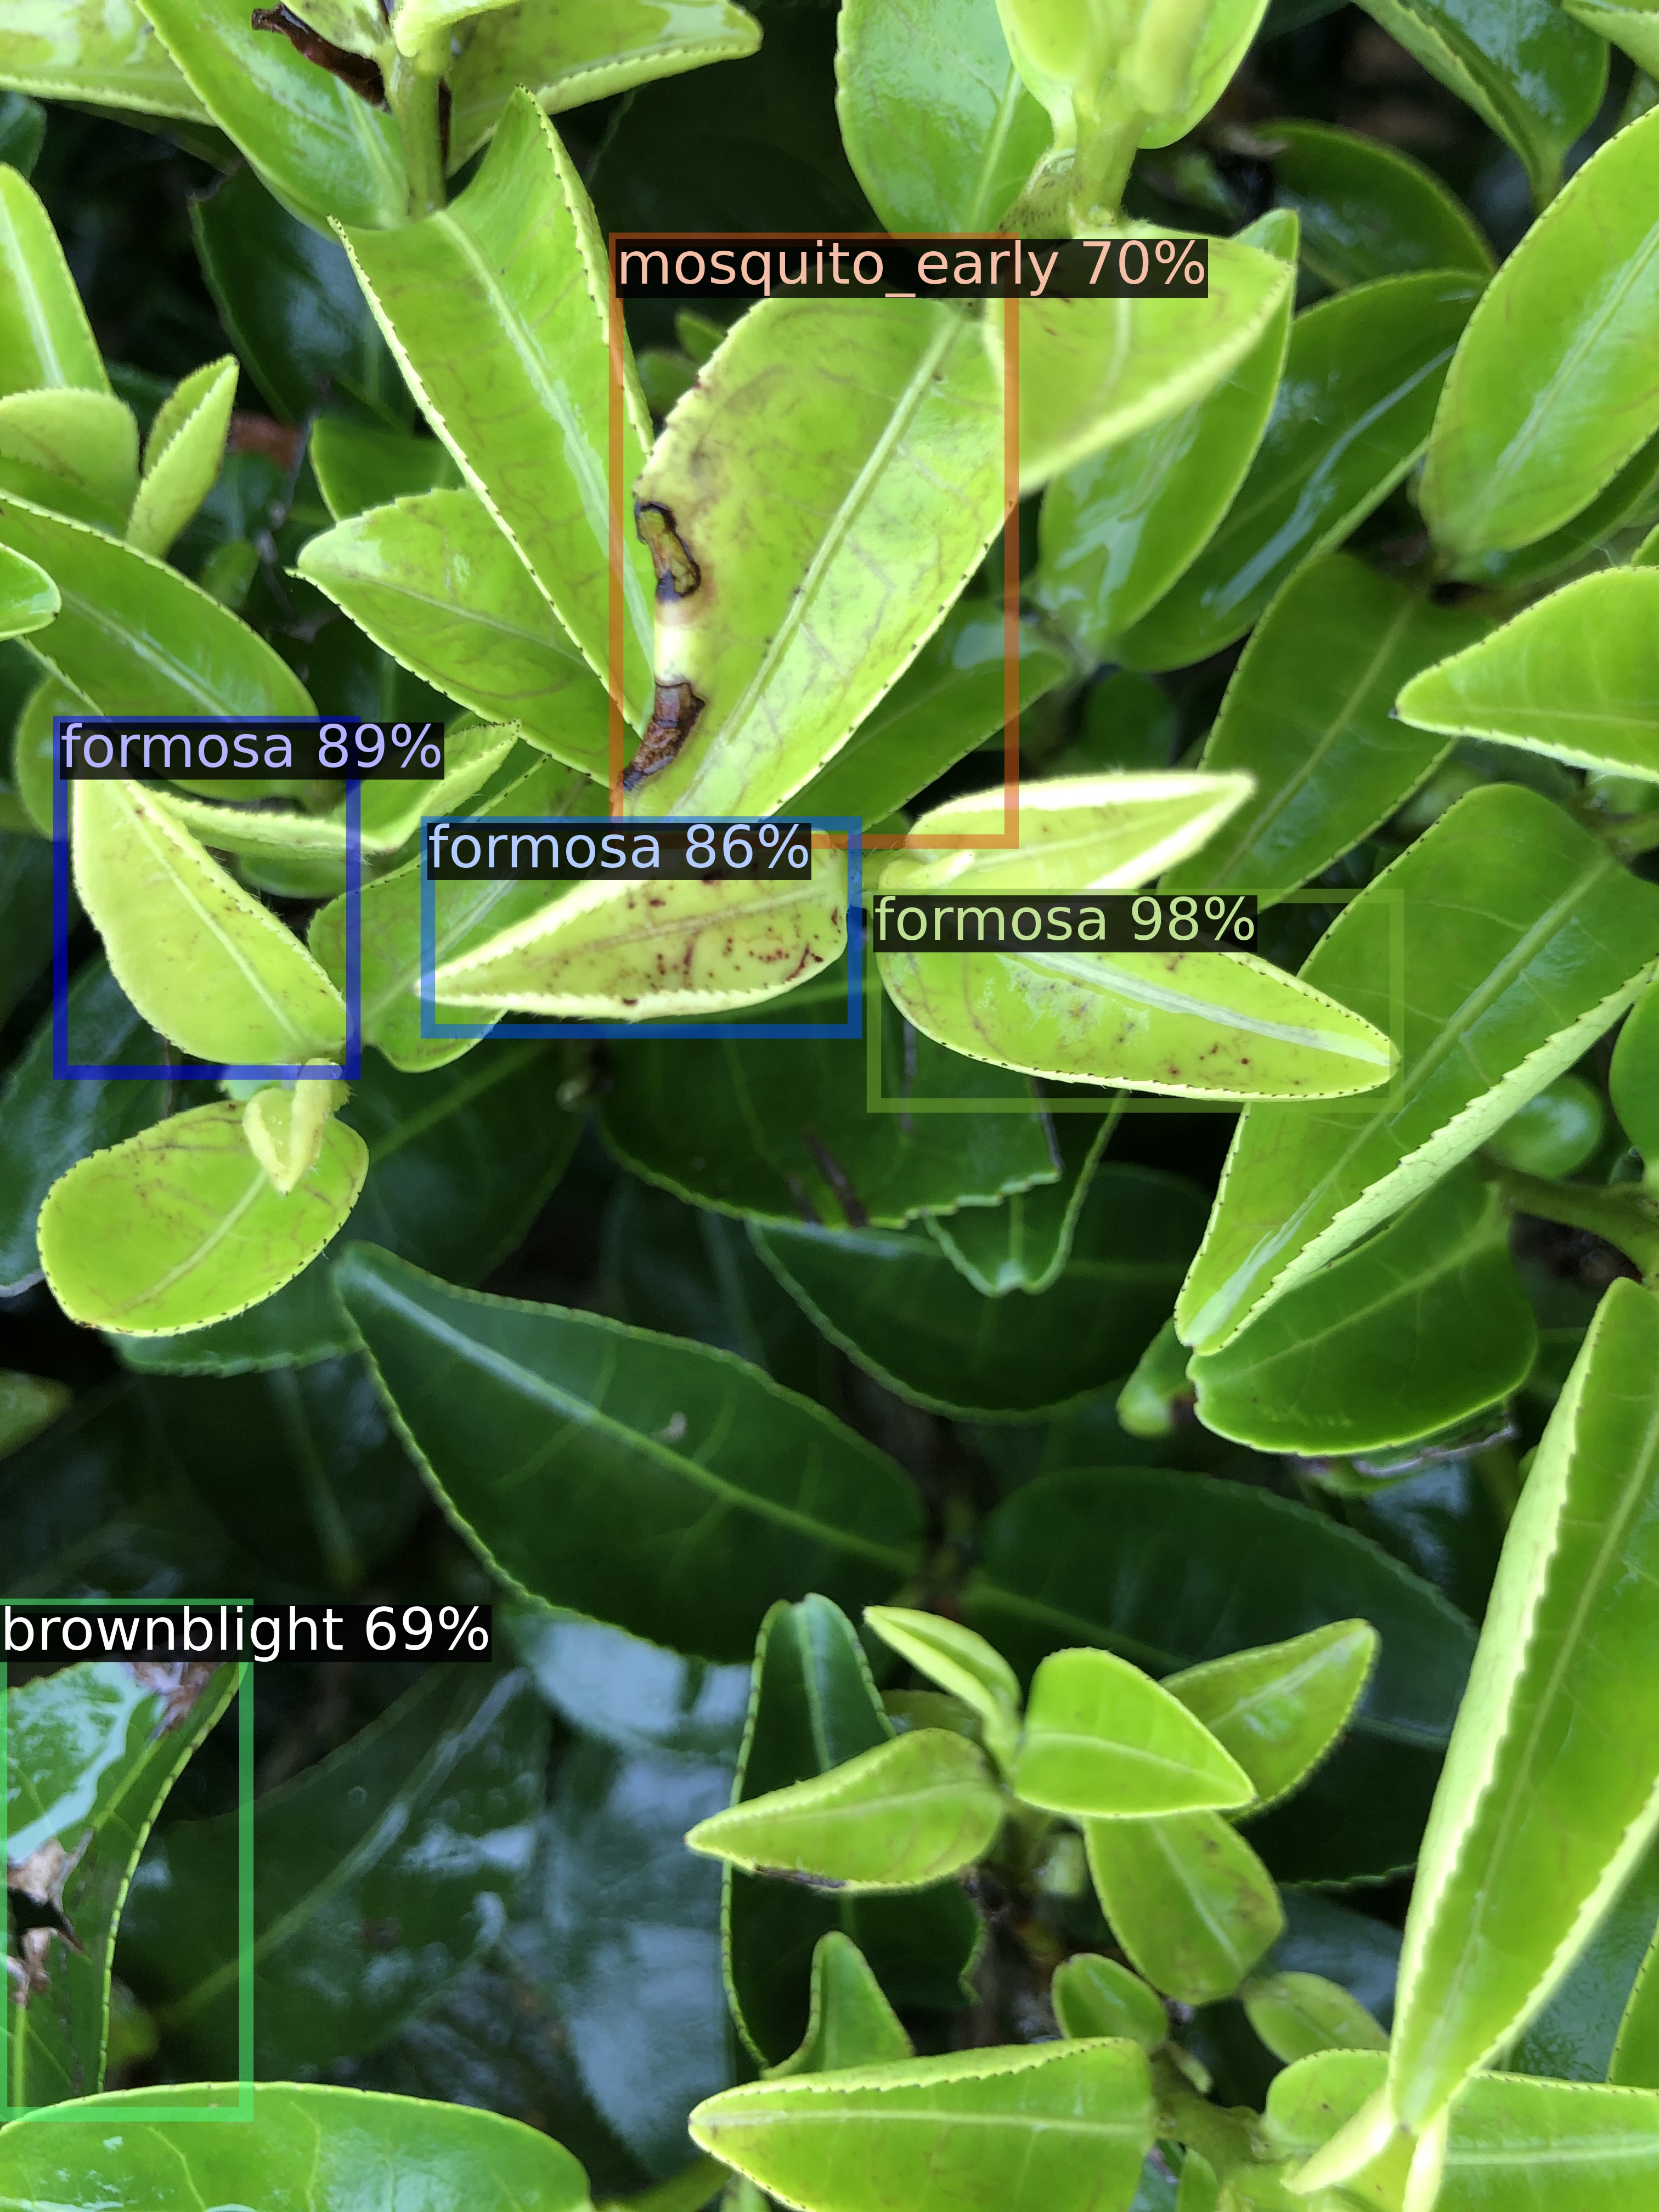brownblight: (0, 1606, 246, 2114)
formosa: (873, 895, 1398, 1104), (61, 723, 354, 1071), (427, 822, 854, 1031)
mosquito_early: (615, 239, 1011, 841)
